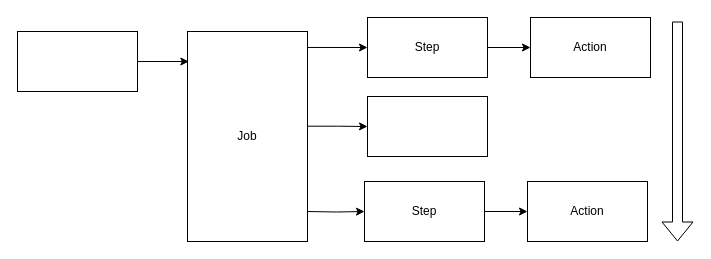
Image size: 711x259. Some labels were removed from this diagram. Each missing label, with the centre of its shape:
Event: the point at 77,61
Shell Command: the point at 427,126
